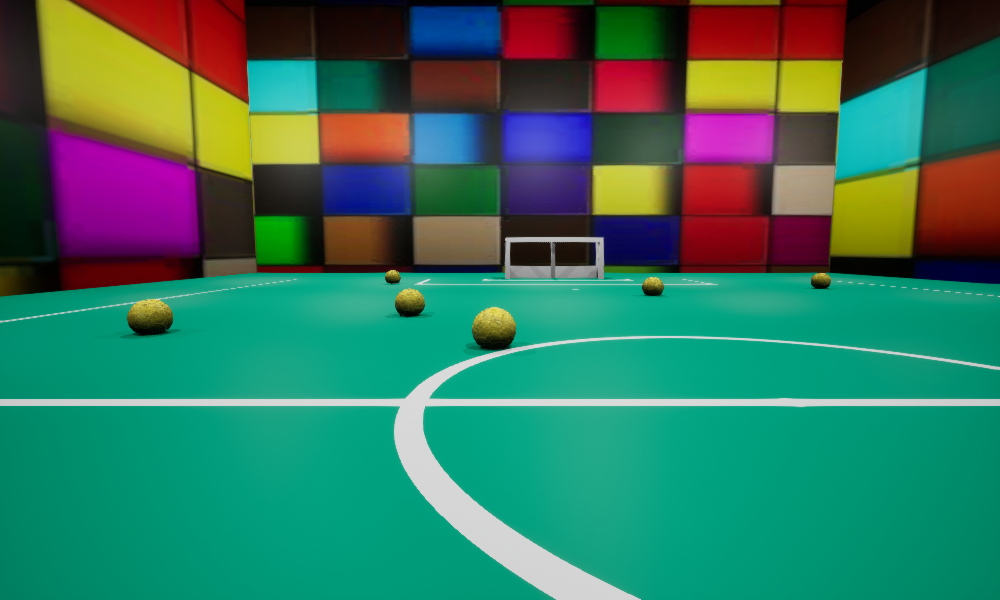b: (472, 307, 515, 348), (127, 299, 172, 334), (395, 288, 424, 315), (642, 277, 663, 295), (811, 273, 830, 288), (385, 270, 400, 283)
g: (505, 237, 603, 278)
